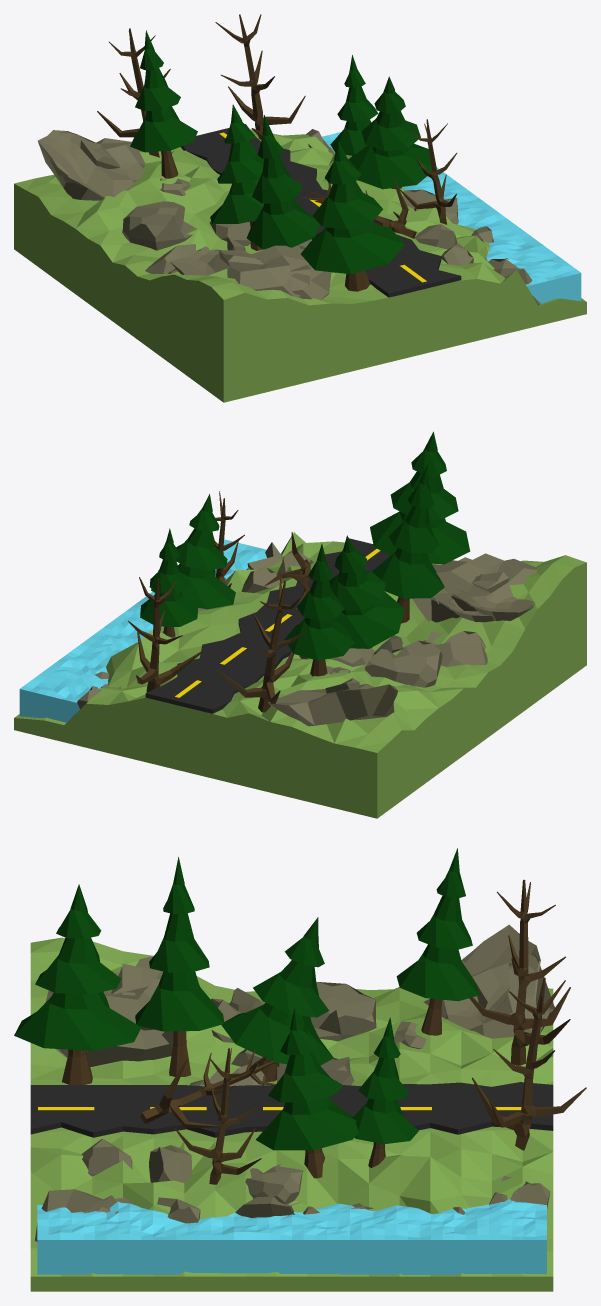
File: Forest Road.glb
3 views of the same model, one above another, from view 1: azimuth 30°, elevation 25°; view 2: azimuth 150°, elevation 25°; view 3: azimuth 270°, elevation 25° (orthographic). The views are drawn at different scales.
Visible parts, largest first — view 1: Terrain, Tree.003, Water, Road, Rock.007, Tree.005, Tree.002, Rock.001, Tree, Tree.004, Rock.022, Tree.006 (+10 smaller); view 2: Terrain, Road, Water, Tree.002, Tree.004, Rock.001, Tree.003, Tree, Rock.007, Tree.005, Tree.006, Rock.022 (+8 smaller); view 3: Terrain, Water, Road, Tree.003, Tree.002, Tree.005, Tree.004, Tree, Rock.007, Tree.006, DeadTree.002, DeadTree.001 (+15 smaller).
Part boxes in pixels (<box>): Terrain: <box>14,129,586,402</box>; Tree.003: <box>301,141,404,291</box>; Water: <box>322,132,581,303</box>; Road: <box>181,124,461,297</box>; Rock.007: <box>38,130,145,200</box>; Tree.005: <box>349,76,431,189</box>; Tree.002: <box>246,115,319,248</box>; Rock.001: <box>169,245,311,297</box>; Tree: <box>130,30,197,178</box>; Tree.004: <box>210,104,296,250</box>; Rock.022: <box>122,201,196,250</box>; Tree.006: <box>330,55,378,155</box>; Terrain: <box>14,532,586,818</box>; Road: <box>145,538,390,713</box>; Water: <box>19,539,281,722</box>; Tree.002: <box>372,464,444,623</box>; Tree.004: <box>329,535,404,648</box>; Rock.001: <box>433,553,537,621</box>; Tree.003: <box>370,431,470,564</box>; Tree: <box>284,544,354,676</box>; Rock.007: <box>268,678,397,726</box>; Tree.005: <box>151,494,235,609</box>; Tree.006: <box>140,528,198,637</box>; Rock.022: <box>365,640,442,687</box>; Terrain: <box>30,937,553,1291</box>; Water: <box>37,1199,546,1274</box>; Road: <box>30,1082,553,1137</box>; Tree.003: <box>14,884,141,1084</box>; Tree.002: <box>135,857,224,1076</box>; Tree.005: <box>256,1008,358,1178</box>; Tree.004: <box>221,917,333,1082</box>; Tree: <box>396,848,479,1035</box>; Rock.007: <box>423,924,554,1045</box>; Tree.006: <box>352,1017,418,1167</box>; DeadTree.002: <box>469,879,570,1065</box>; DeadTree.001: <box>472,977,586,1150</box>.
Bounding box in the file's own units: 8 × 5.17 × 8.77.
